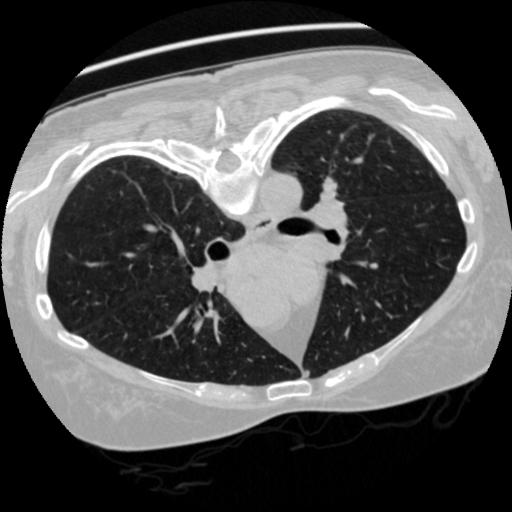nodule: (367, 260, 380, 273)
